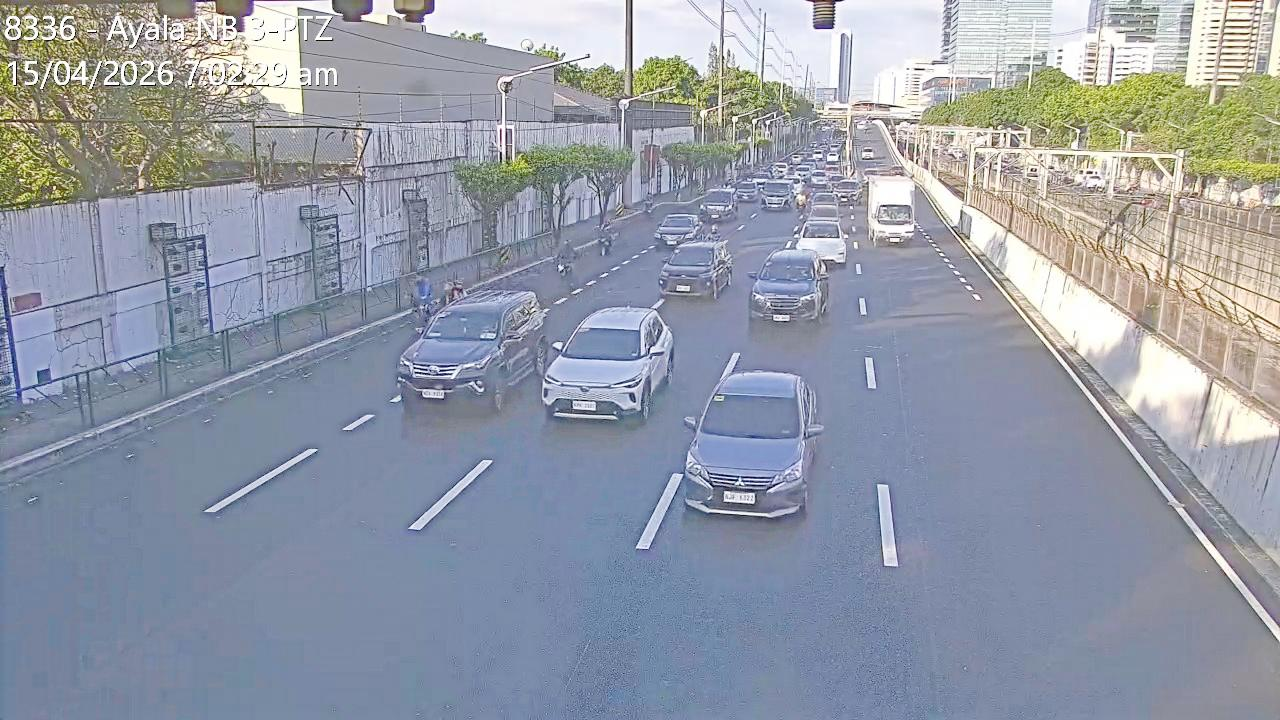Car: (680, 369, 821, 517), (395, 289, 548, 412), (543, 303, 675, 422), (746, 247, 833, 327), (655, 238, 735, 300), (795, 217, 848, 268), (651, 215, 698, 250), (698, 188, 737, 221), (759, 179, 795, 211), (804, 197, 841, 223), (831, 178, 863, 204), (732, 178, 759, 202), (860, 146, 874, 159)
Motor: (409, 278, 441, 328), (551, 234, 575, 288), (596, 217, 614, 259)
Not Accident: (388, 278, 548, 414), (654, 214, 730, 302), (790, 196, 846, 262)
